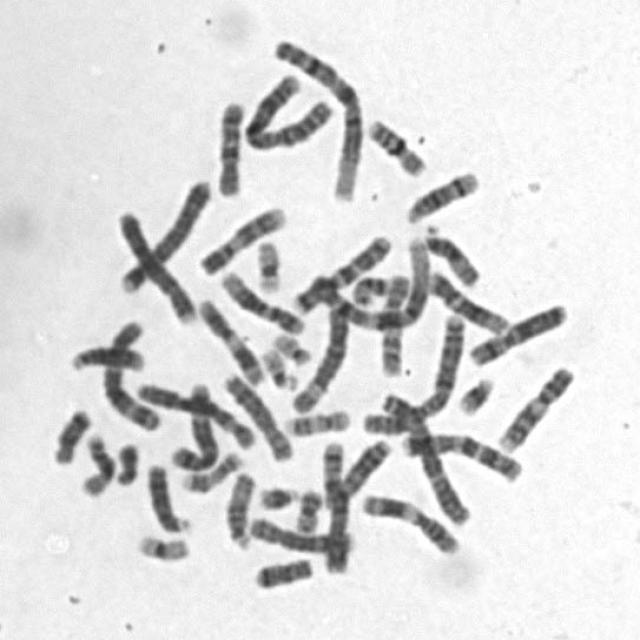A1: (268, 32, 368, 204), (295, 232, 437, 334)
A2: (356, 306, 468, 437), (240, 67, 340, 151)
A3: (376, 387, 473, 528), (98, 315, 164, 433)
B4: (114, 171, 216, 296), (111, 205, 200, 326)
B5: (165, 377, 220, 473), (316, 437, 351, 575)
C10: (375, 267, 412, 379), (210, 94, 247, 200)
C11: (356, 486, 464, 557), (193, 293, 268, 387)
C12: (215, 264, 308, 336), (422, 265, 511, 336)
C6: (129, 375, 258, 451), (287, 300, 353, 416)
C7: (289, 229, 395, 315), (395, 426, 524, 485)
C8: (218, 365, 297, 464), (242, 509, 356, 556)
C9: (492, 360, 578, 454), (196, 201, 290, 277)
D13: (318, 433, 395, 510), (142, 457, 194, 534)
D14: (401, 164, 482, 226), (62, 339, 145, 374)
D15: (418, 219, 484, 289), (220, 467, 257, 552)
E16: (362, 112, 429, 178), (74, 426, 117, 498)
E17: (176, 445, 246, 494), (279, 403, 354, 438)
E18: (47, 403, 94, 466), (249, 551, 316, 592)
F19: (131, 528, 193, 564), (250, 233, 284, 294)
F20: (346, 269, 395, 308), (290, 484, 324, 534)
G21: (452, 371, 498, 417), (252, 479, 302, 511)
G22: (257, 342, 303, 391), (267, 326, 316, 366)
X: (463, 296, 571, 367)
Y: (111, 437, 141, 487)
